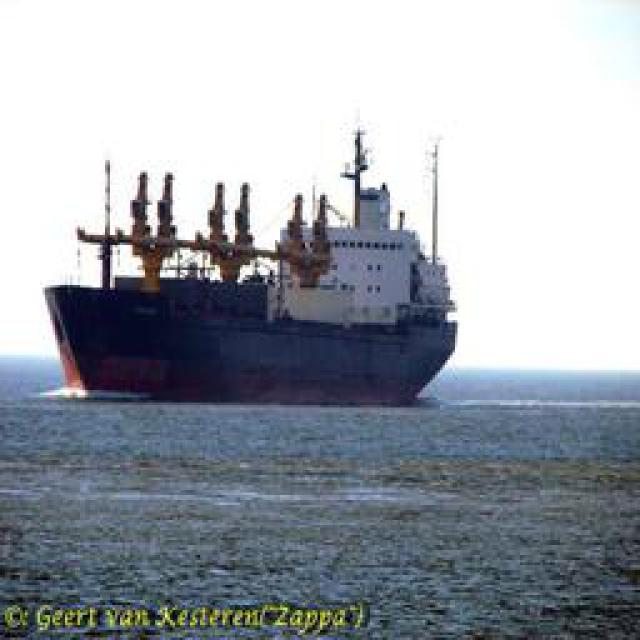Ship: (49, 118, 459, 406)
